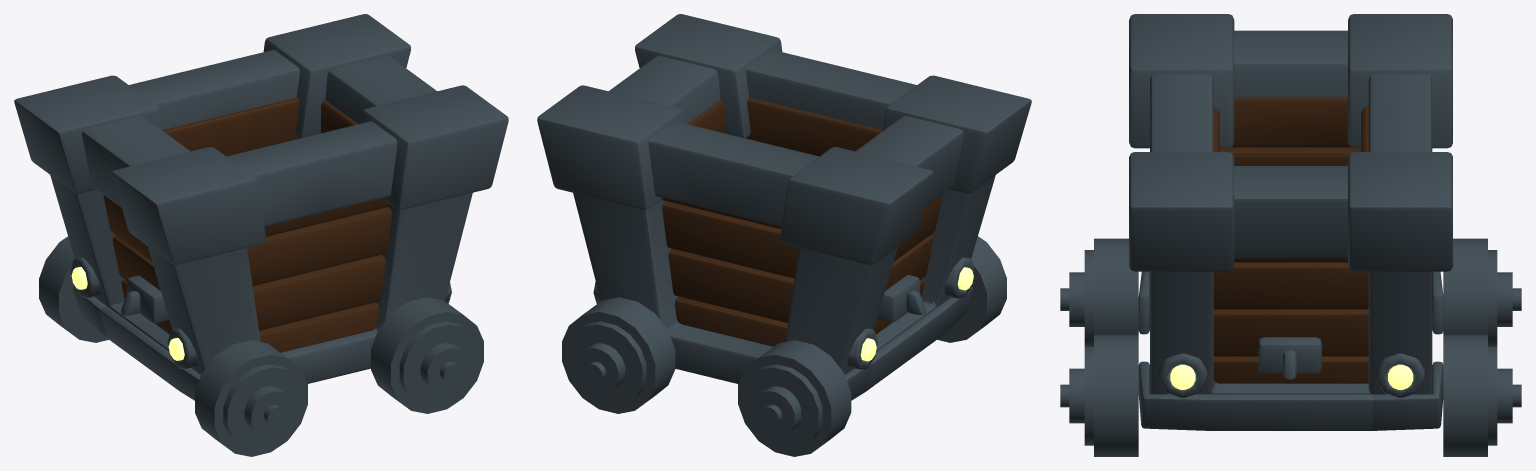
The model's file is Carrinho.fbx.
3 renders of one model, left to right at view 1: azimuth 30°, elevation 25°; view 2: azimuth 150°, elevation 25°; view 3: azimuth 270°, elevation 25°, orthographic. The views are drawn at different scales.
Parts seen in each view (by area): view 1: Carrinho, Rodas, Parachoque, Luz; view 2: Carrinho, Rodas, Parachoque, Luz; view 3: Carrinho, Rodas, Parachoque, Luz.
Boxes of the visible parts, x1,y1,x2,y2 form: Carrinho: (14,14,508,383); Rodas: (39,236,483,456); Parachoque: (73,287,200,400); Luz: (70,257,451,368); Carrinho: (537,14,1031,383); Rodas: (562,236,1006,456); Parachoque: (845,287,972,400); Luz: (593,257,974,369); Carrinho: (1129,14,1452,394); Rodas: (1060,238,1521,456); Parachoque: (1138,271,1443,430); Luz: (1159,353,1424,397).
Bounding box in the file's own units: 41.01 × 28.93 × 41.27.
